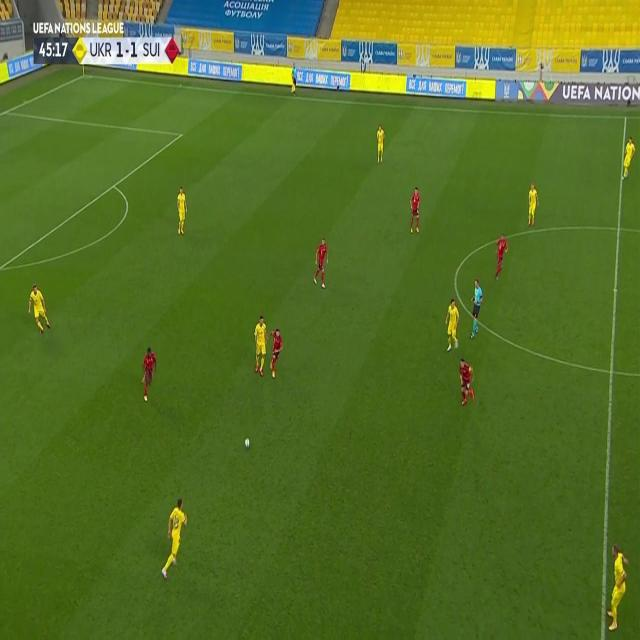ball: (243, 436, 250, 449)
player: (597, 543, 631, 630), (160, 499, 190, 583), (28, 284, 50, 335), (140, 346, 158, 406), (458, 357, 476, 407), (444, 298, 460, 354), (254, 314, 268, 378), (469, 278, 483, 340), (312, 237, 328, 289), (268, 329, 284, 379), (494, 233, 510, 280), (621, 137, 636, 181), (525, 183, 539, 228), (176, 187, 188, 238), (409, 186, 421, 234), (376, 124, 384, 166), (290, 61, 298, 96)
